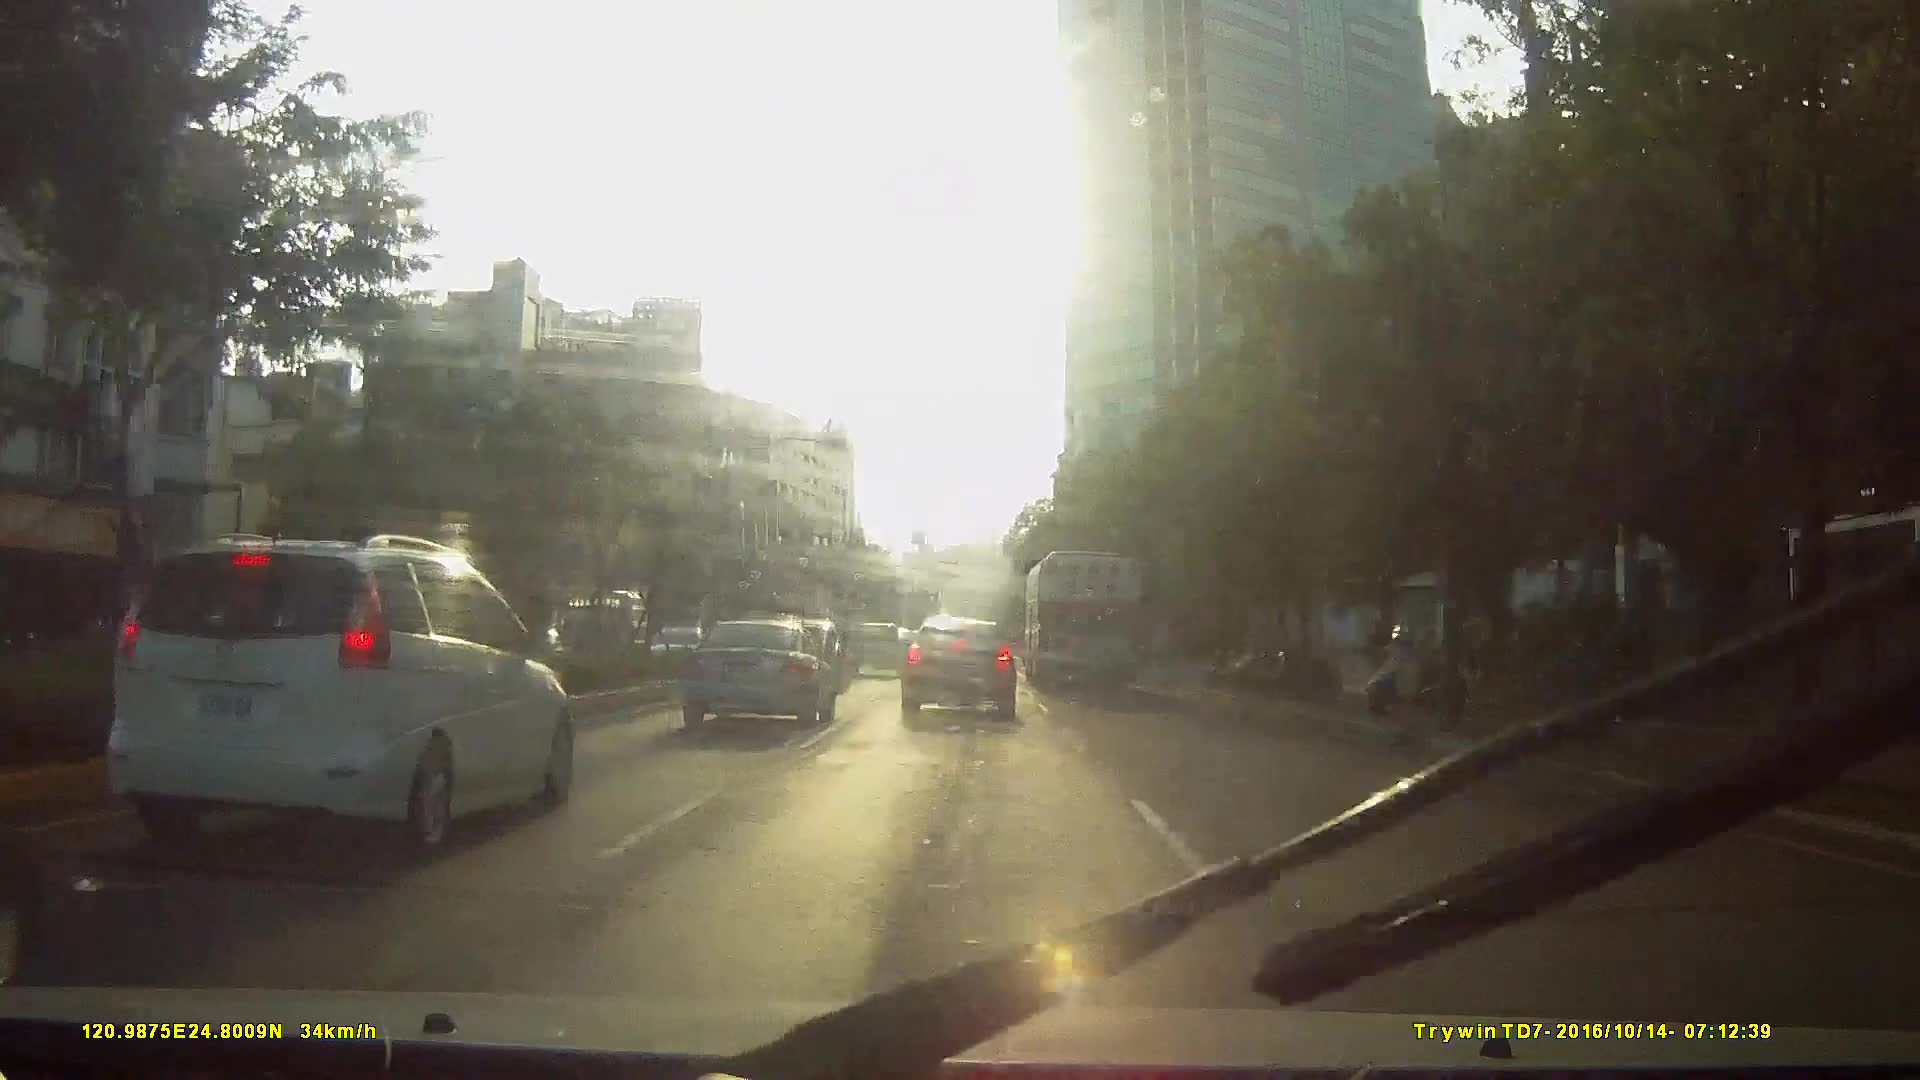vehicle: (95, 524, 582, 876), (251, 556, 684, 868), (669, 615, 833, 733), (1021, 541, 1143, 692), (897, 616, 1021, 720), (542, 585, 640, 670), (847, 620, 903, 678)
